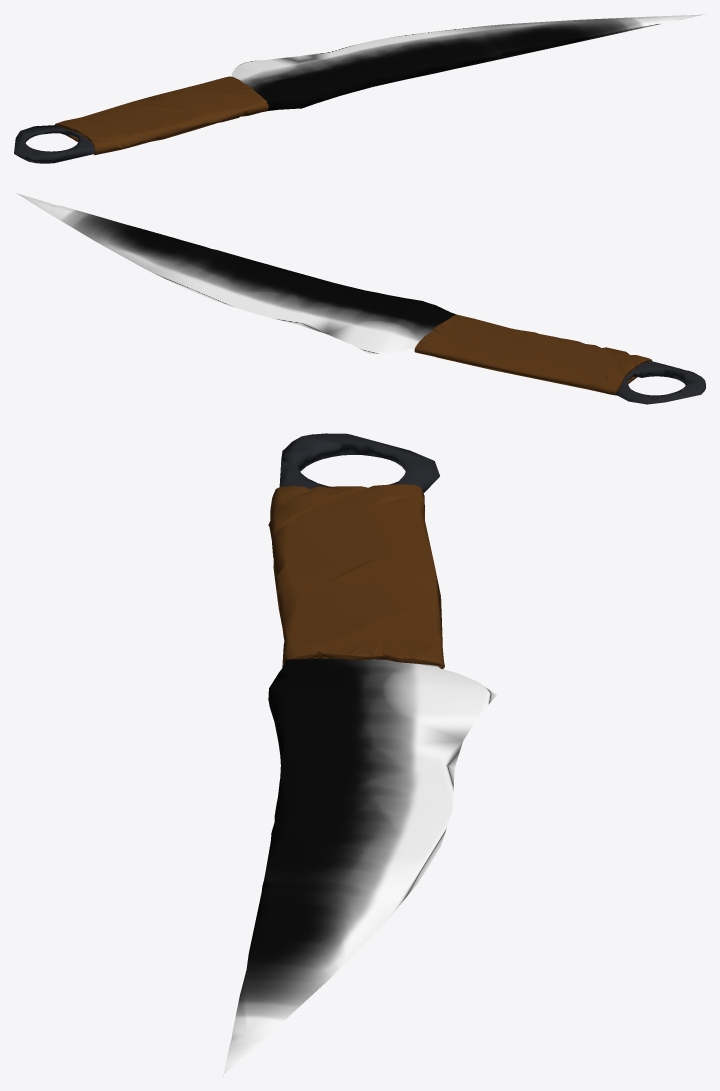
File: cuchillo.fbx
3 views of the same model, one above another, from view 1: azimuth 30°, elevation 25°; view 2: azimuth 150°, elevation 25°; view 3: azimuth 270°, elevation 25° (orthographic). The views are drawn at different scales.
Visible parts, largest first — view 1: cuchillo; view 2: cuchillo; view 3: cuchillo.
Boxes of the visible parts, left/top/right/bottom form: cuchillo: left=14, top=14, right=702, bottom=163; cuchillo: left=16, top=193, right=705, bottom=404; cuchillo: left=223, top=433, right=496, bottom=1075.
Bounding box in the file's own units: 735 × 132 × 15.15.
2 materials, 2 textured.
